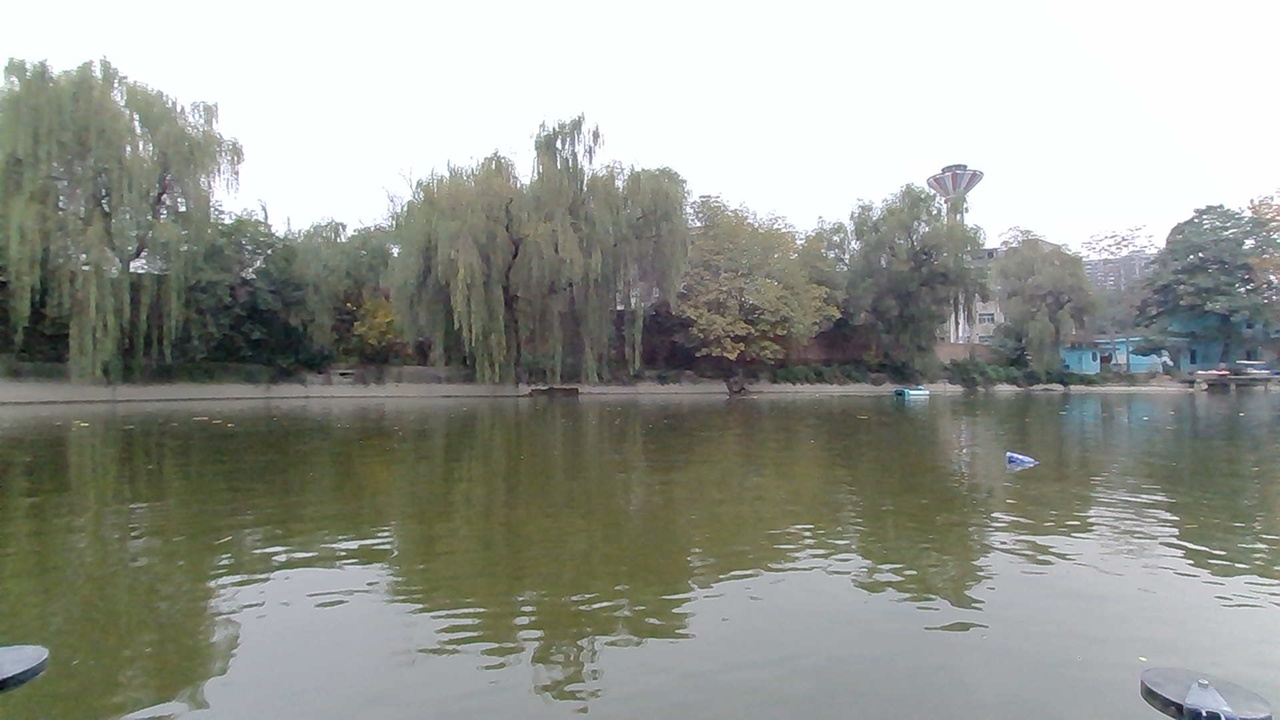bottle: (993, 446, 1038, 480)
